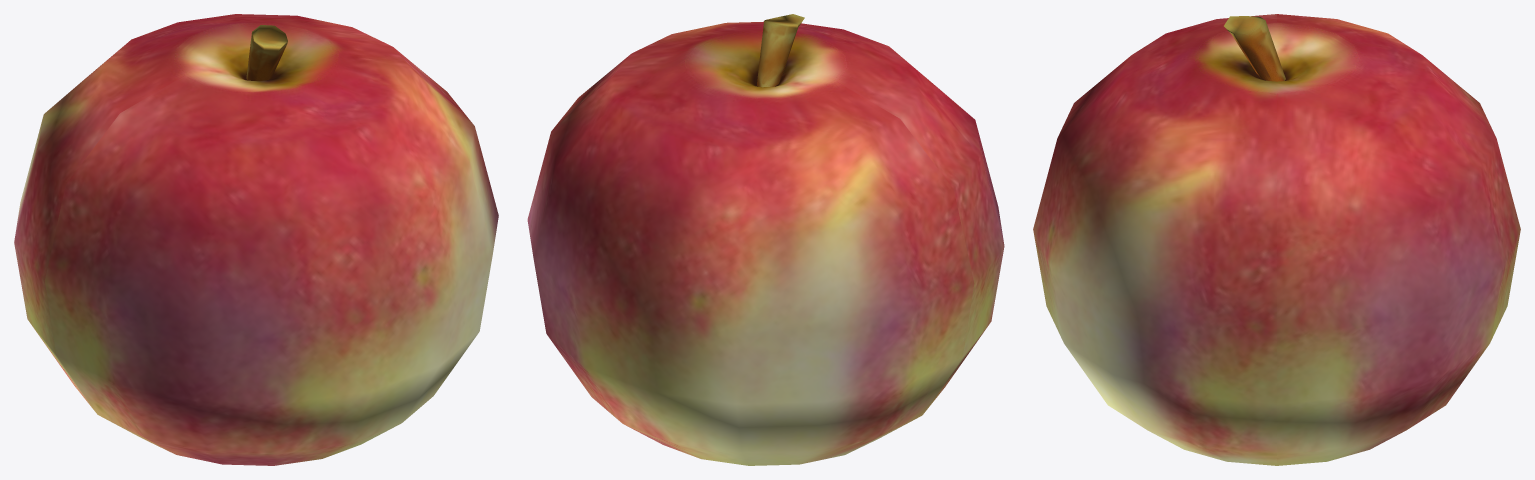
The model's file is apple.fbx.
3 views of the same model, side by side, from view 1: azimuth 30°, elevation 25°; view 2: azimuth 150°, elevation 25°; view 3: azimuth 270°, elevation 25° (orthographic).
Parts seen in each view (by area): view 1: Cube; view 2: Cube; view 3: Cube.
Boxes of the visible parts, bbox=[...] form: Cube: bbox=[14, 14, 498, 465]; Cube: bbox=[527, 14, 1004, 465]; Cube: bbox=[1033, 14, 1520, 465].
Bounding box in the file's own units: 0.0627 × 0.0567 × 0.0627.
Materials: 1 (1 with a texture image).
